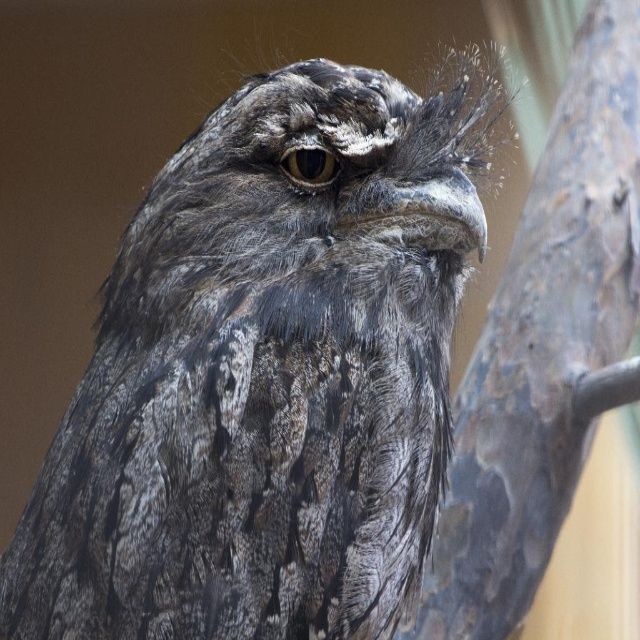Owl: (0, 3, 534, 640)
